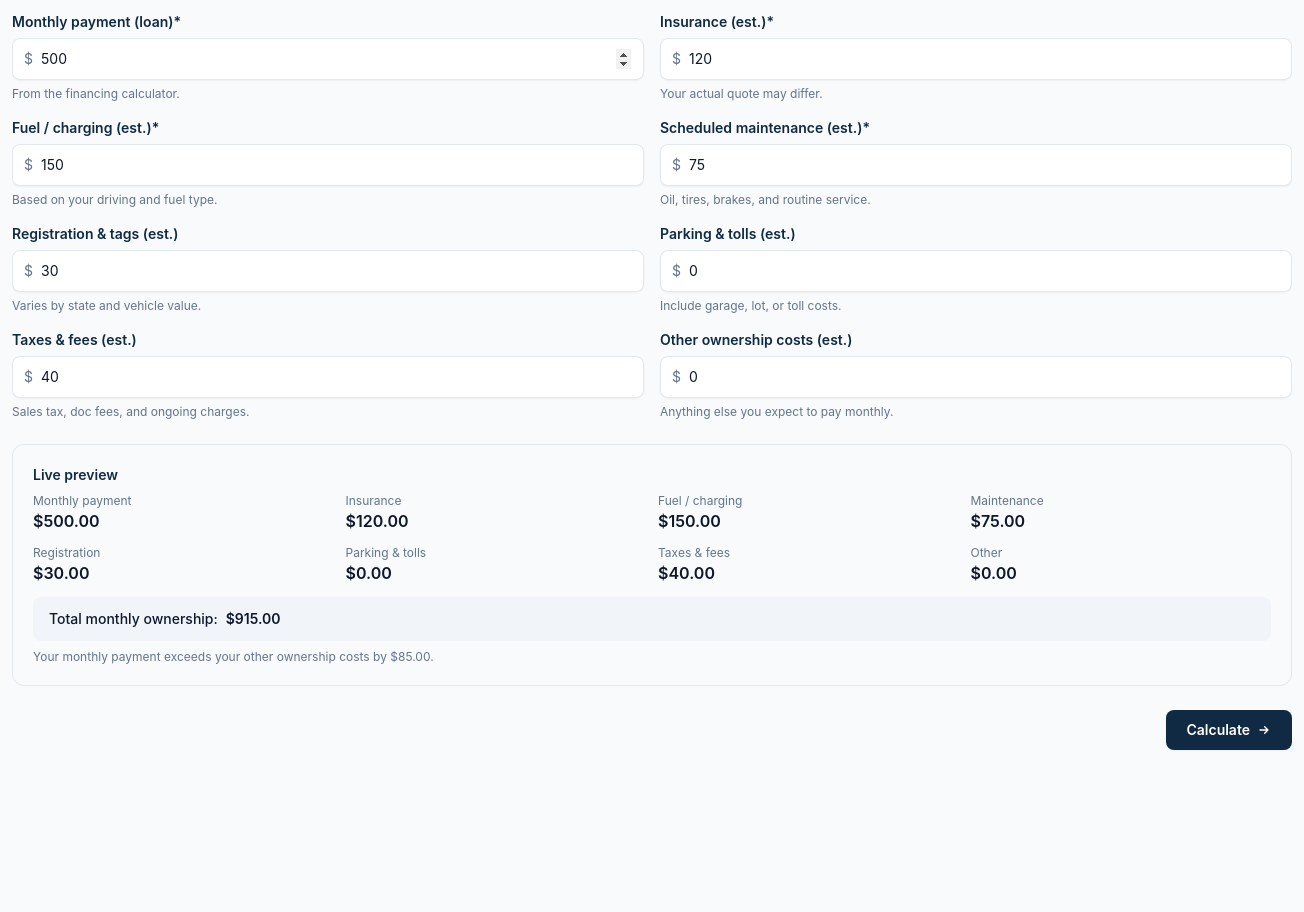
Test: OwnershipBudget › shows affordability result on successful submit
The width and height of the screenshot is (1304, 912).
Click the button "Calculate" at x=1229, y=730, box top-left (1166, 710), bottom-right (1292, 750)
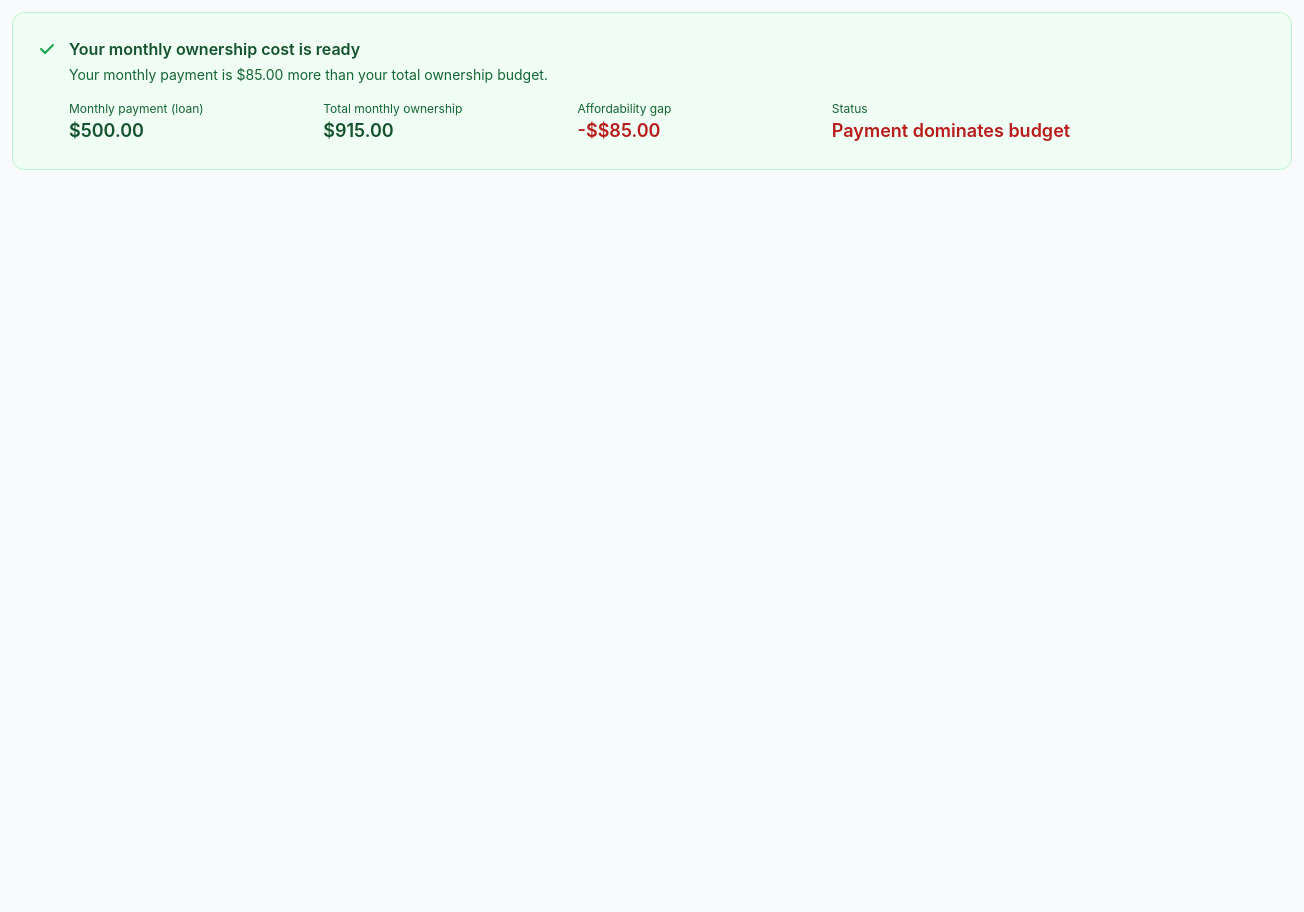
Expected: the text "Your monthly ownership cost is ready" is shown, top-left (69, 39), bottom-right (360, 59)
Expected: the text "Payment dominates budget" is shown, top-left (832, 117), bottom-right (1070, 145)
